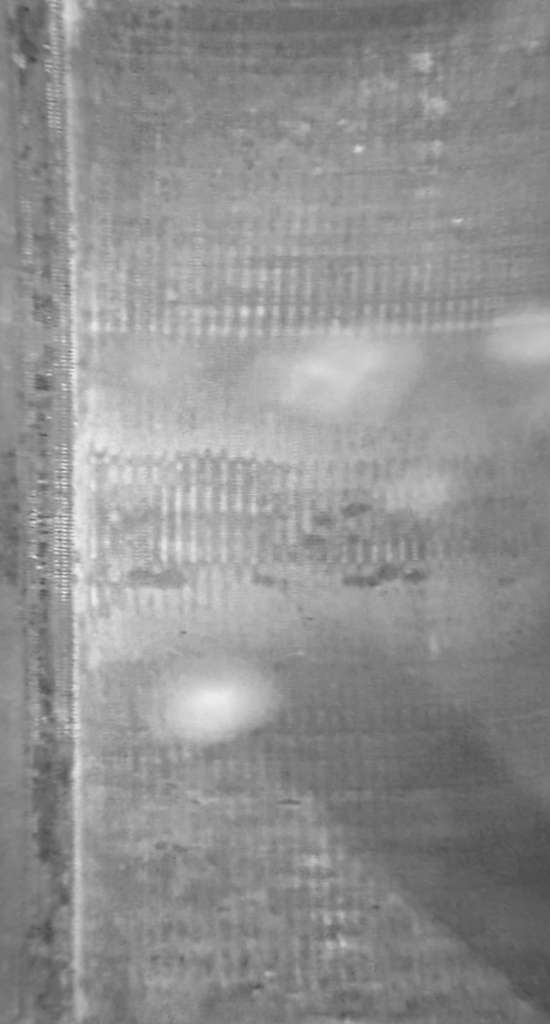splice: (4, 1, 78, 1024)
